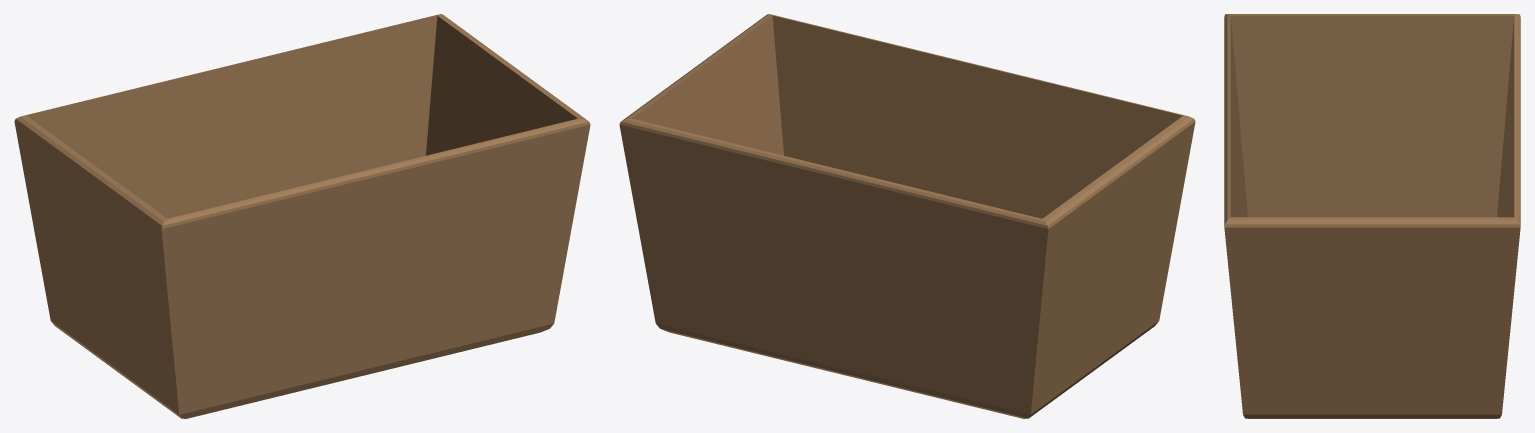
File: Food Bowl Var 3.fbx
3 views of the same model, side by side, from view 1: azimuth 30°, elevation 25°; view 2: azimuth 150°, elevation 25°; view 3: azimuth 270°, elevation 25° (orthographic).
Visible parts, largest first — view 1: Food Bowl Var 3; view 2: Food Bowl Var 3; view 3: Food Bowl Var 3.
Part boxes in pixels (x1,y1,x2,y2): Food Bowl Var 3: (14, 14, 590, 418); Food Bowl Var 3: (619, 14, 1195, 418); Food Bowl Var 3: (1224, 14, 1520, 418).
Bounding box in the file's own units: 27.38 × 13.15 × 16.26.
